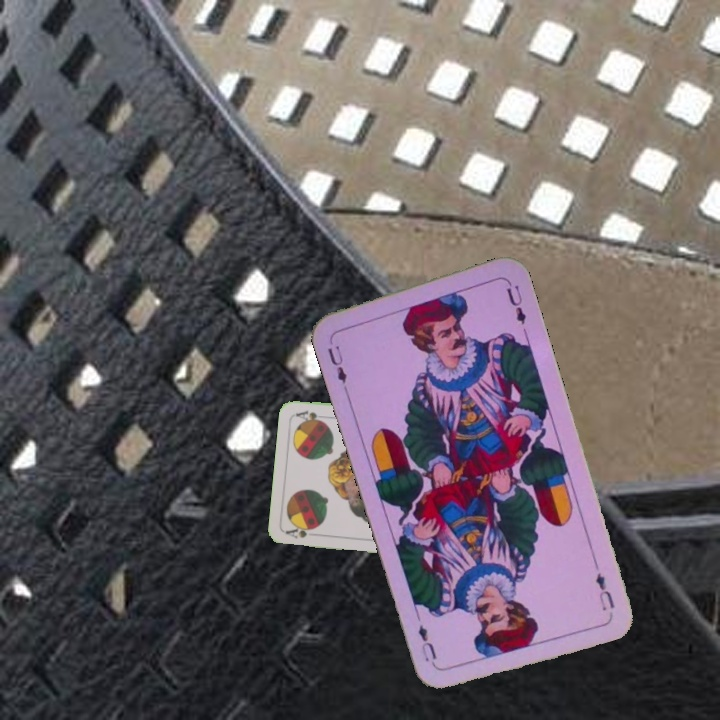EU: (323, 341, 350, 392), (591, 569, 617, 614)
SA: (282, 523, 319, 541)
